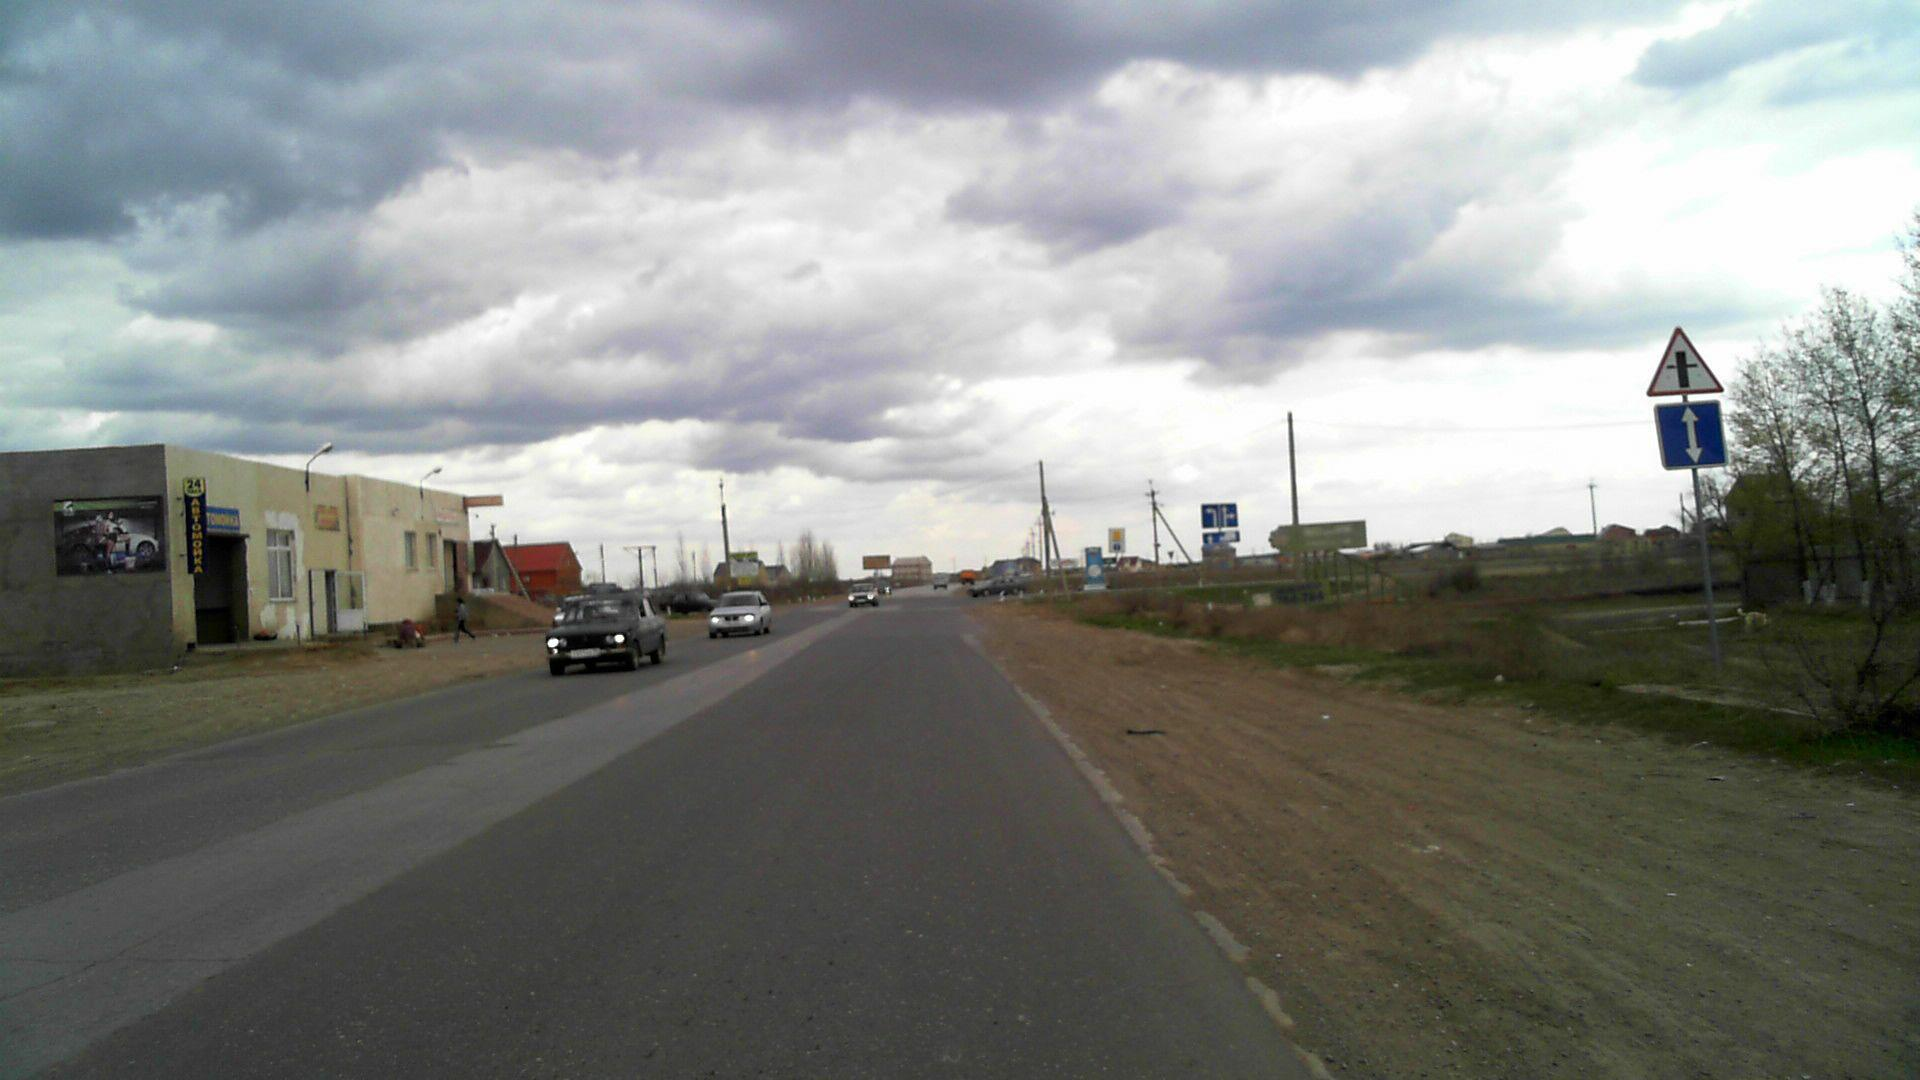2_3_1: (1640, 320, 1729, 397)
4_8_1: (1109, 526, 1126, 553)
5_15_1: (1201, 502, 1240, 527)
5_24_1: (1050, 558, 1077, 568)
5_8: (1654, 400, 1727, 472)
6_15_1: (1201, 530, 1240, 543)
